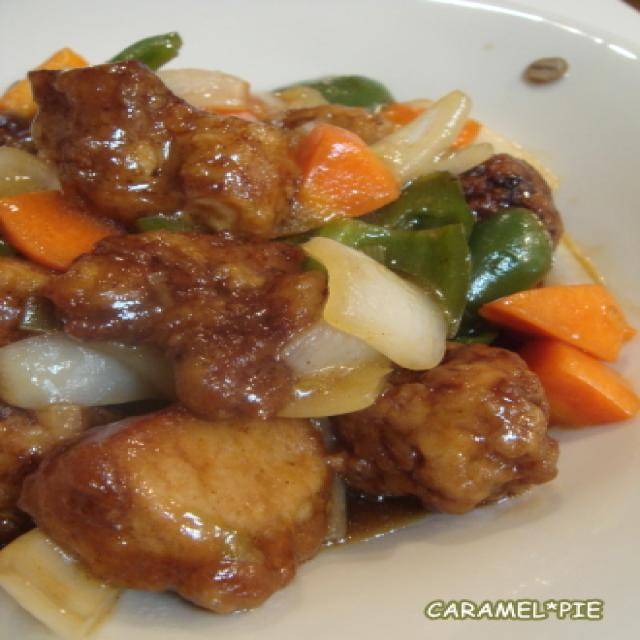猪肉菜式: (0, 29, 624, 640)
